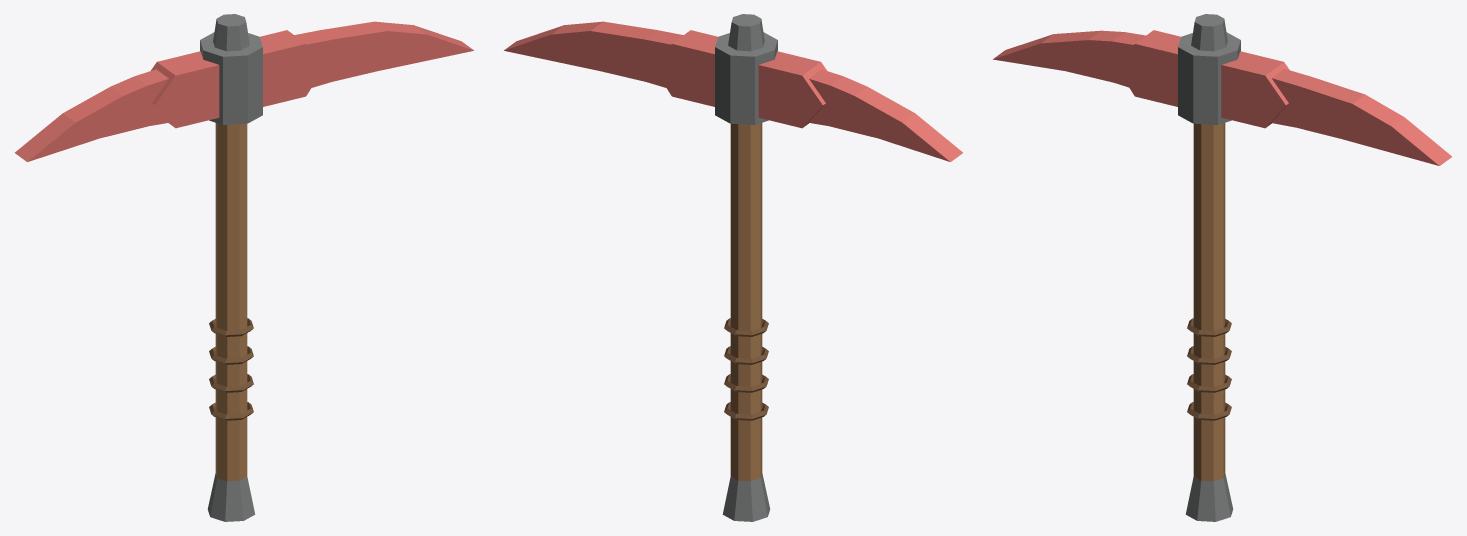
File: t5_pickaxe.glb
3 renders of one model, left to right at view 1: azimuth 30°, elevation 25°; view 2: azimuth 150°, elevation 25°; view 3: azimuth 330°, elevation 25°, orthographic.
Visible parts, largest first — view 1: WoodHandle, HeadCore, RightPickHead, LeftPickHead, HeadSocket, BottomPommel, TopCap; view 2: WoodHandle, HeadCore, RightPickHead, LeftPickHead, HeadSocket, BottomPommel, TopCap; view 3: WoodHandle, RightPickHead, HeadCore, LeftPickHead, HeadSocket, BottomPommel, TopCap.
Boxes of the visible parts, x1,y1,x2,y2 form: WoodHandle: (215, 123, 247, 481); HeadCore: (151, 30, 326, 128); RightPickHead: (294, 21, 473, 87); LeftPickHead: (15, 69, 168, 161); HeadSocket: (200, 32, 262, 124); BottomPommel: (207, 473, 255, 521); TopCap: (213, 14, 249, 51); WoodHandle: (730, 123, 762, 481); HeadCore: (651, 30, 826, 128); RightPickHead: (504, 21, 683, 87); LeftPickHead: (809, 69, 962, 161); HeadSocket: (715, 32, 777, 124); BottomPommel: (722, 473, 770, 521); TopCap: (728, 14, 764, 51); WoodHandle: (1193, 123, 1225, 481); RightPickHead: (1271, 69, 1451, 165); HeadCore: (1114, 30, 1289, 128); LeftPickHead: (993, 30, 1145, 87); HeadSocket: (1178, 32, 1240, 124); BottomPommel: (1185, 473, 1233, 521); TopCap: (1191, 14, 1227, 51).
Bounding box in the file's own units: 1.51 × 1.59 × 0.19.
